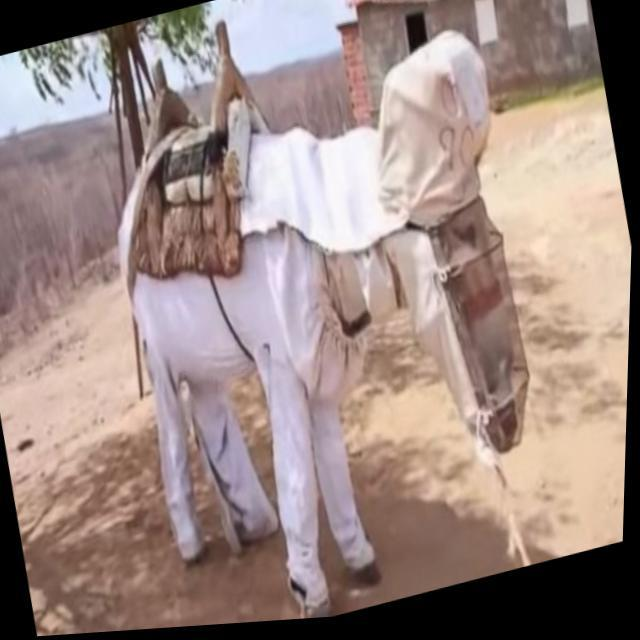Donkey: (45, 0, 594, 637)
